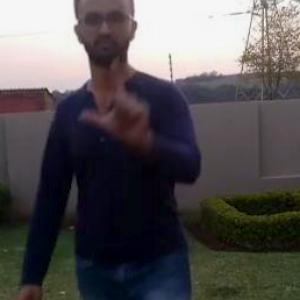land_hand: (78, 49, 160, 144)
